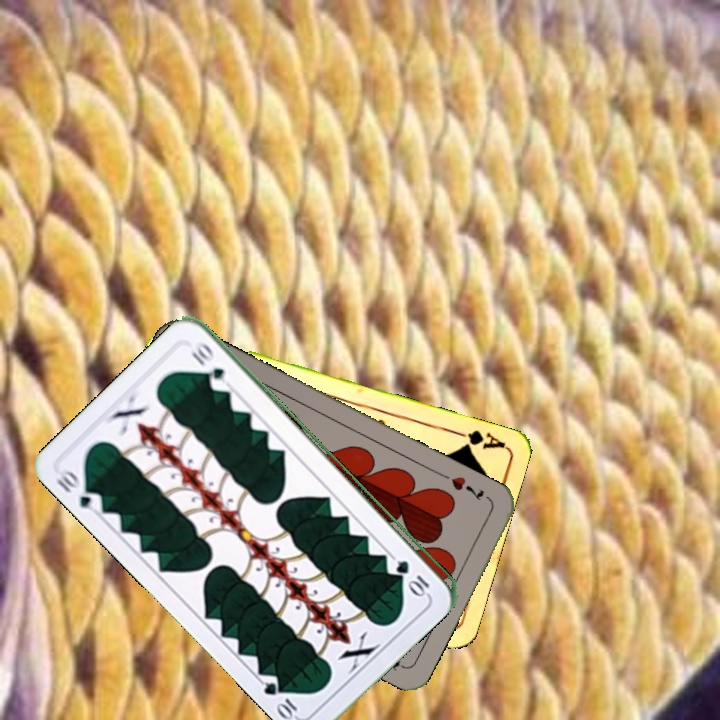G10: (53, 466, 106, 516), (393, 556, 432, 597)
GA: (448, 426, 507, 452)
H7: (447, 472, 487, 504)
